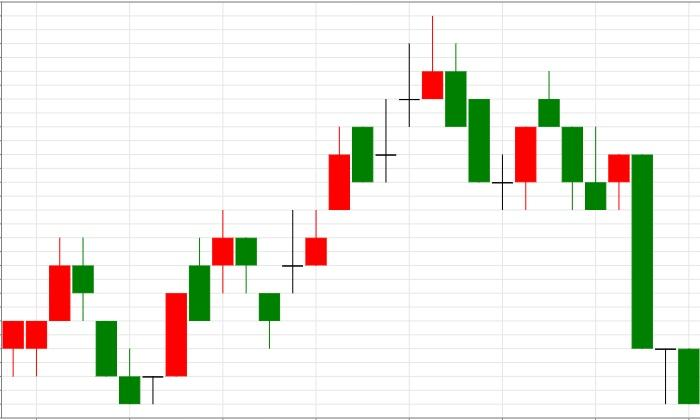morning_star_rise: (422, 15, 536, 210)
shooting_star_fall: (282, 15, 443, 295)
three_black_crows_fall: (3, 238, 141, 404)
